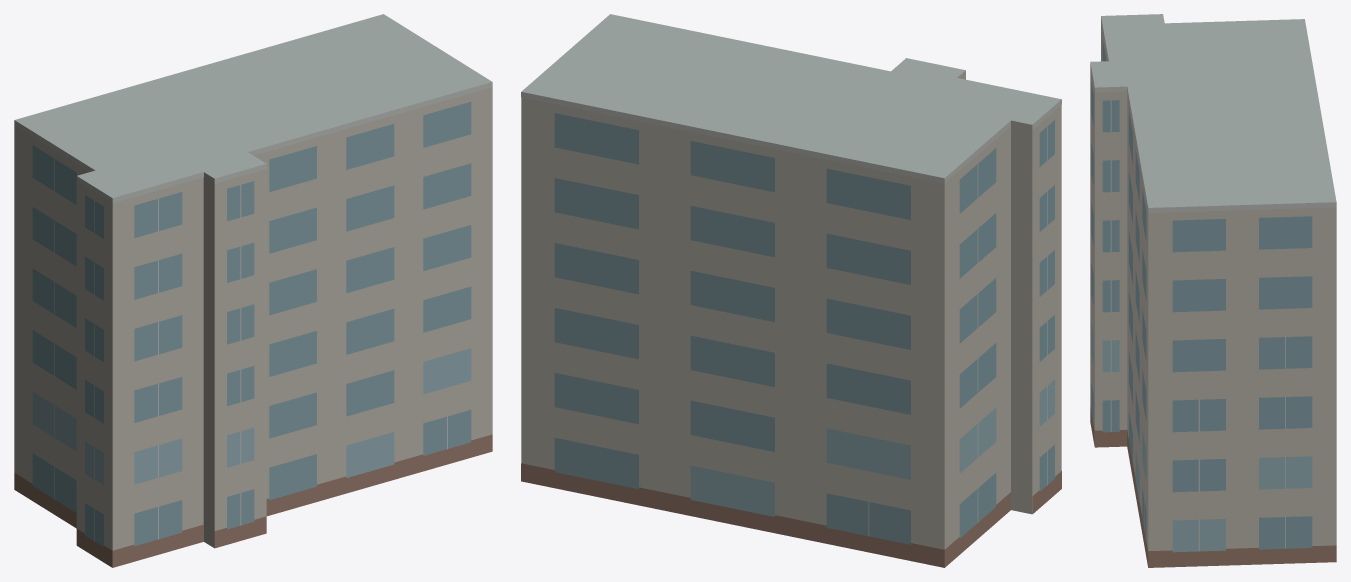
File: survey-upis-33031778.glb
3 views of the same model, side by side, from view 1: azimuth 30°, elevation 25°; view 2: azimuth 150°, elevation 25°; view 3: azimuth 270°, elevation 25° (orthographic). The views are drawn at different scales.
Visible parts, largest first — view 1: survey-upis-33031778.tmp; view 2: survey-upis-33031778.tmp; view 3: survey-upis-33031778.tmp.
Part boxes in pixels (bbox=[...]): survey-upis-33031778.tmp: bbox=[14, 14, 492, 567]; survey-upis-33031778.tmp: bbox=[521, 14, 1061, 567]; survey-upis-33031778.tmp: bbox=[1090, 14, 1336, 567].
Size of the model in its own units: 20.12 by 17.4 by 10.8.
